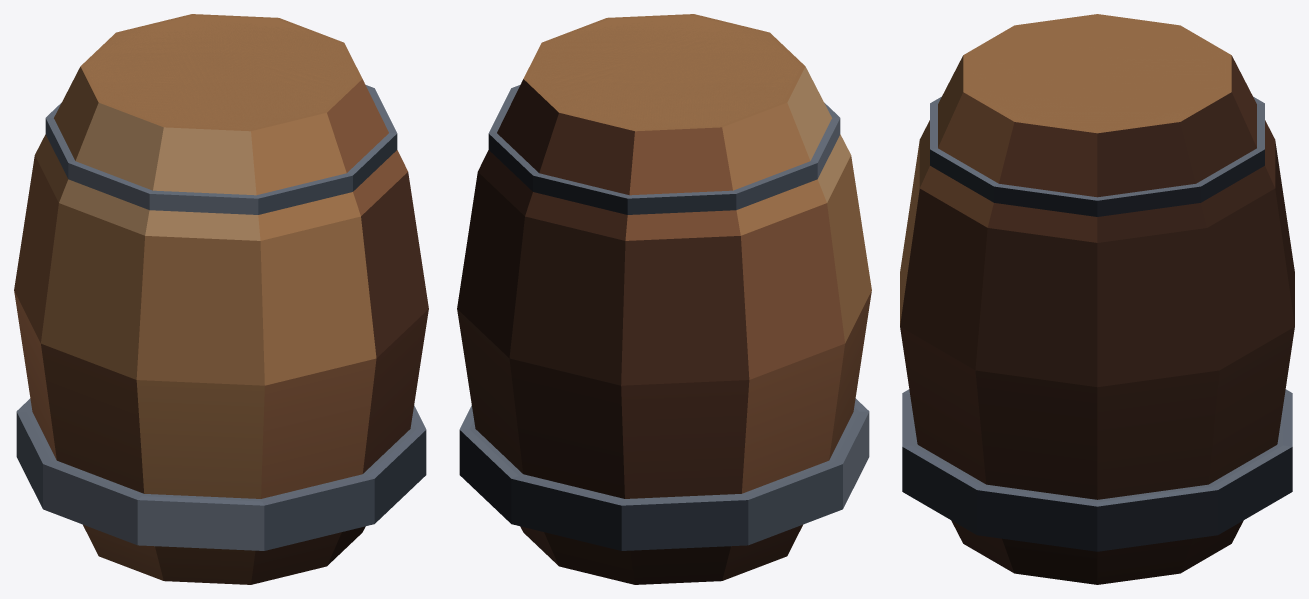
Rendered from barrel.glb.
The picture shows the model from 3 angles, left to right: view 1: azimuth 30°, elevation 25°; view 2: azimuth 150°, elevation 25°; view 3: azimuth 270°, elevation 25°; orthographic projection.
Parts seen in each view (by area): view 1: barrel; view 2: barrel; view 3: barrel.
Boxes of the visible parts, x1,y1,x2,y2 form: barrel: (14,14,428,584); barrel: (457,14,871,584); barrel: (900,14,1294,584).
Size of the model in its own units: 0.65 by 0.78 by 0.6182.
